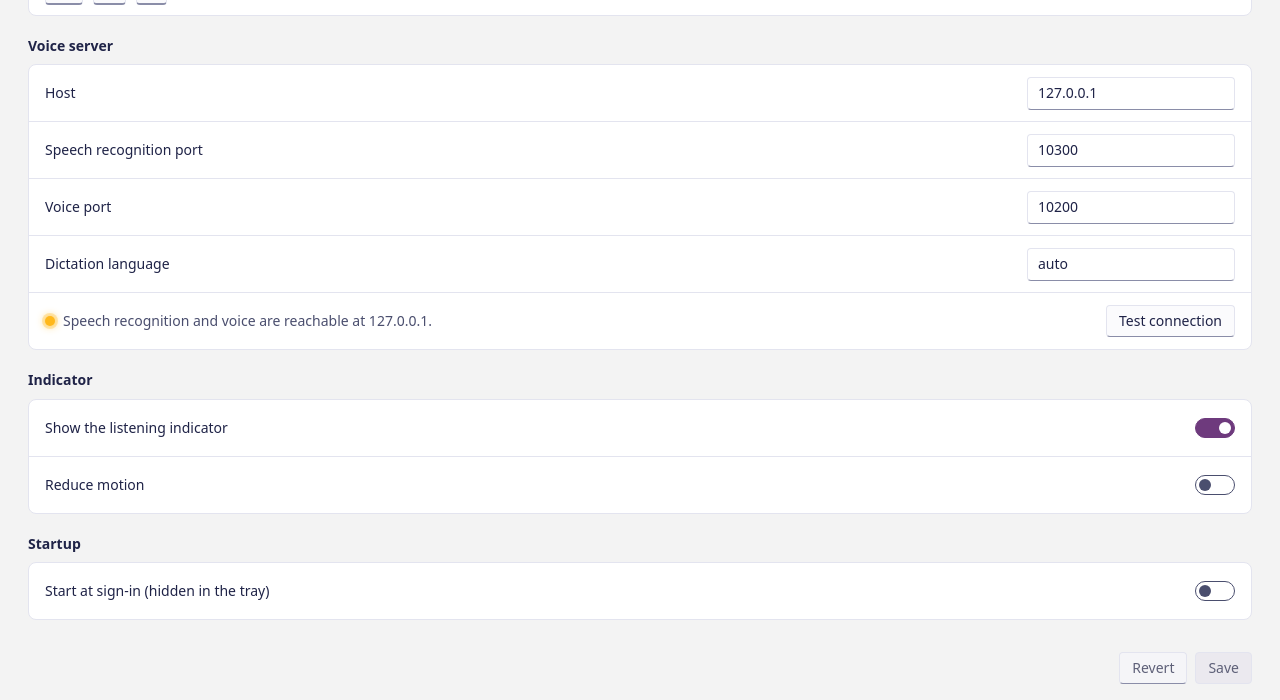
Scenario: SettingsWindow fields › enables Save and Revert only when the draft changed
(page scrolled)
expect the button "Save" is disabled: met, box [1195,652,1252,684]
expect the button "Revert" is disabled: met, box [1119,652,1188,684]
Click the switch labelled "Reduce motion" at (1215, 485), box [1195,475,1235,495]
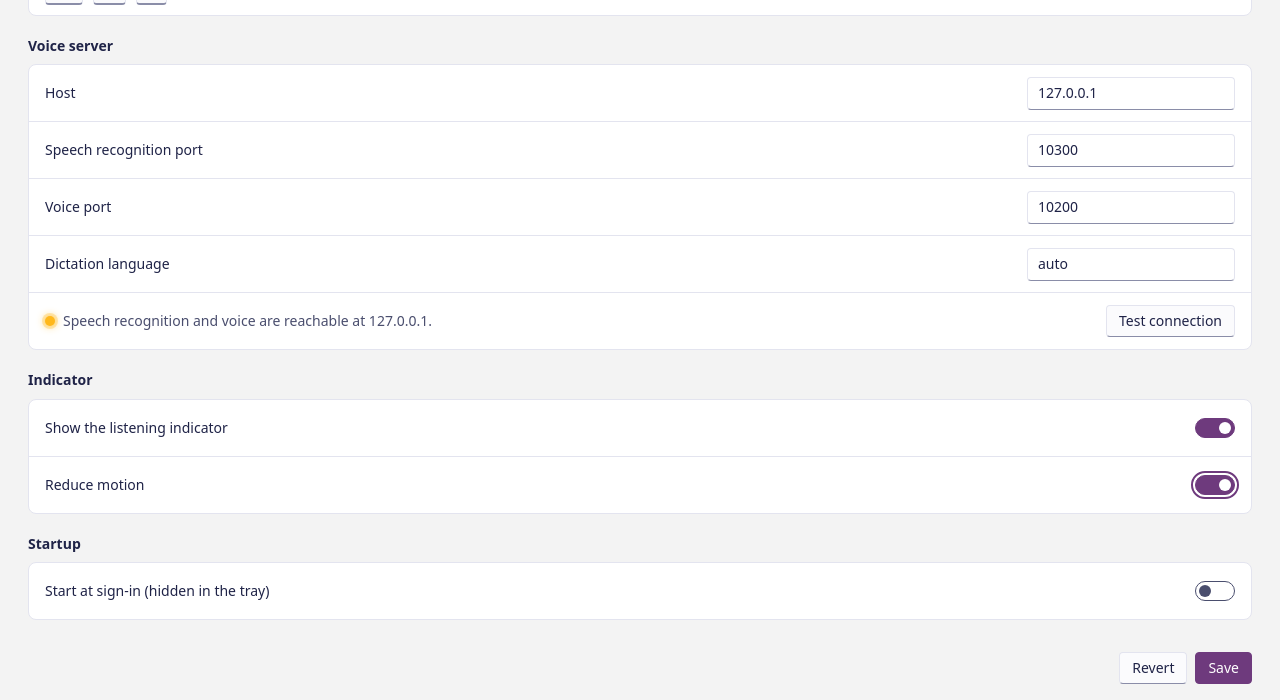
expect the button "Save" is enabled: met, box [1195,652,1252,684]
expect the button "Revert" is enabled: met
Click the button "Revert" at (1153, 668), box [1119,652,1188,684]
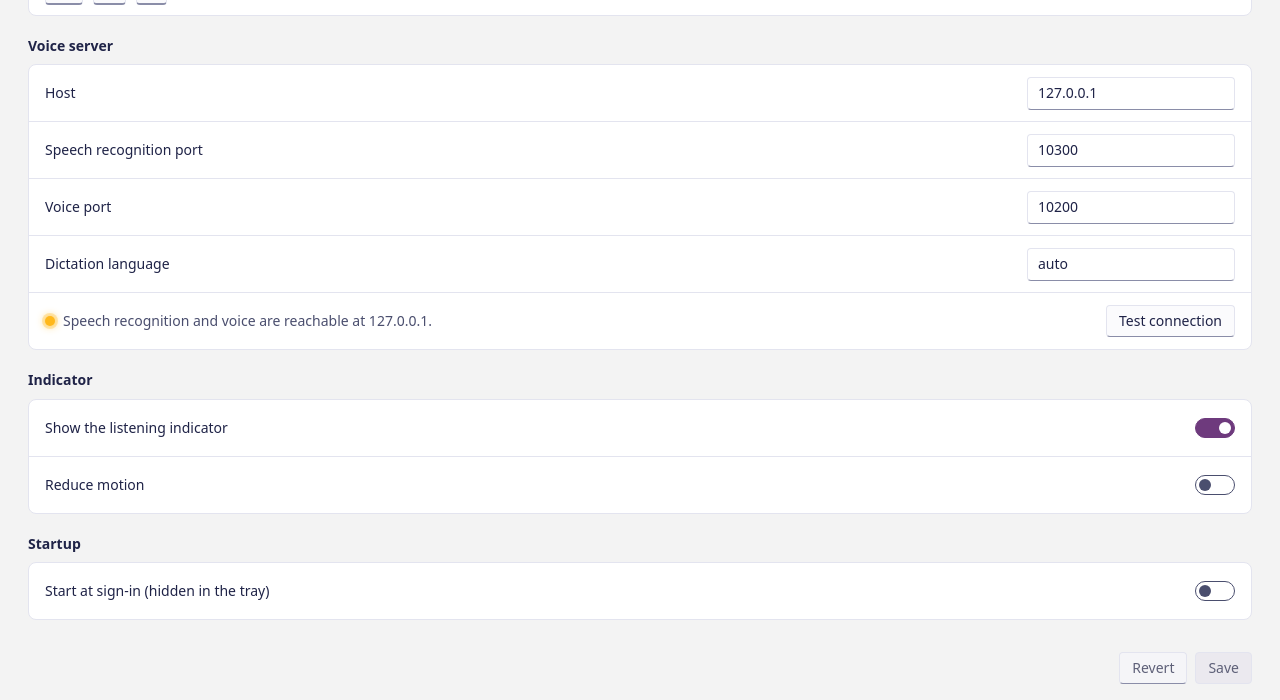
expect the switch labelled "Reduce motion" is not checked: met, box [1195,475,1235,495]
